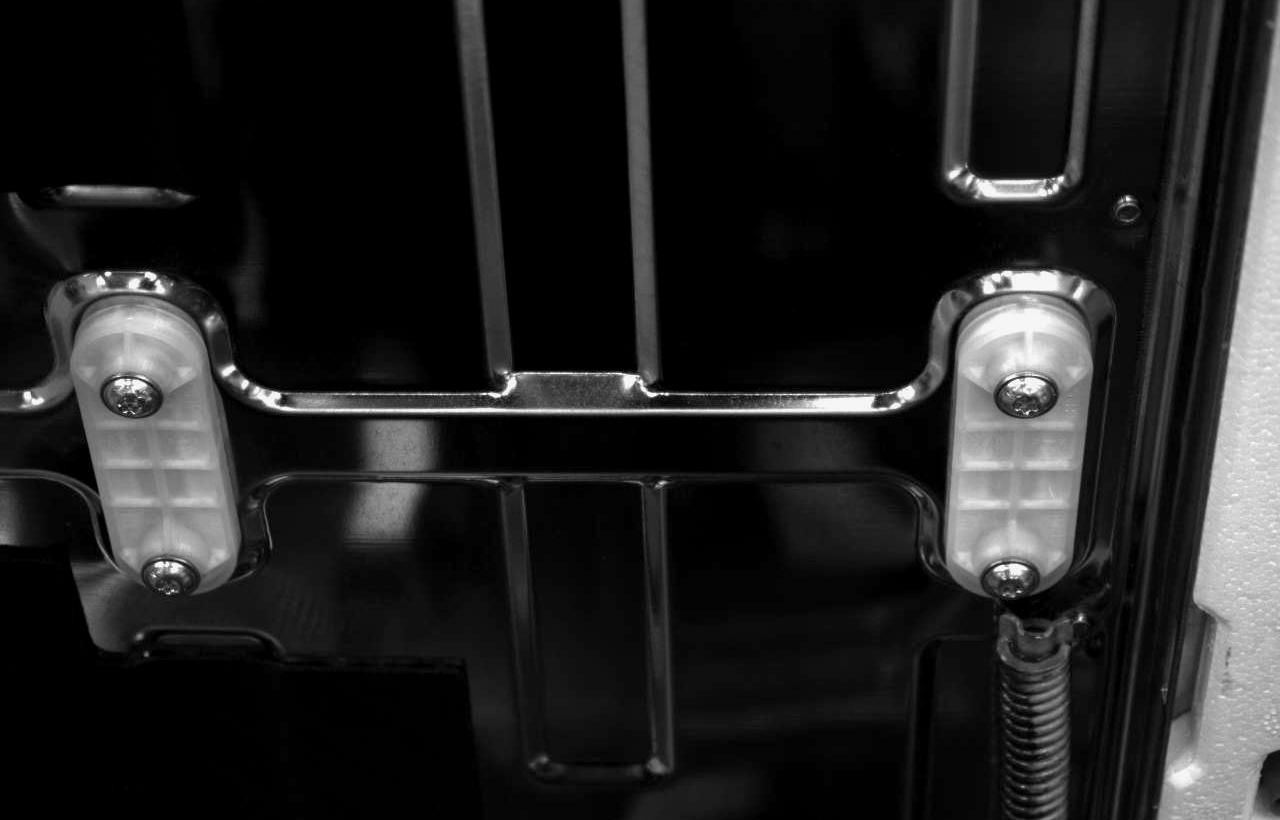vida-ok: (99, 358, 170, 425), (991, 361, 1059, 428), (980, 547, 1046, 605), (136, 547, 201, 605)
